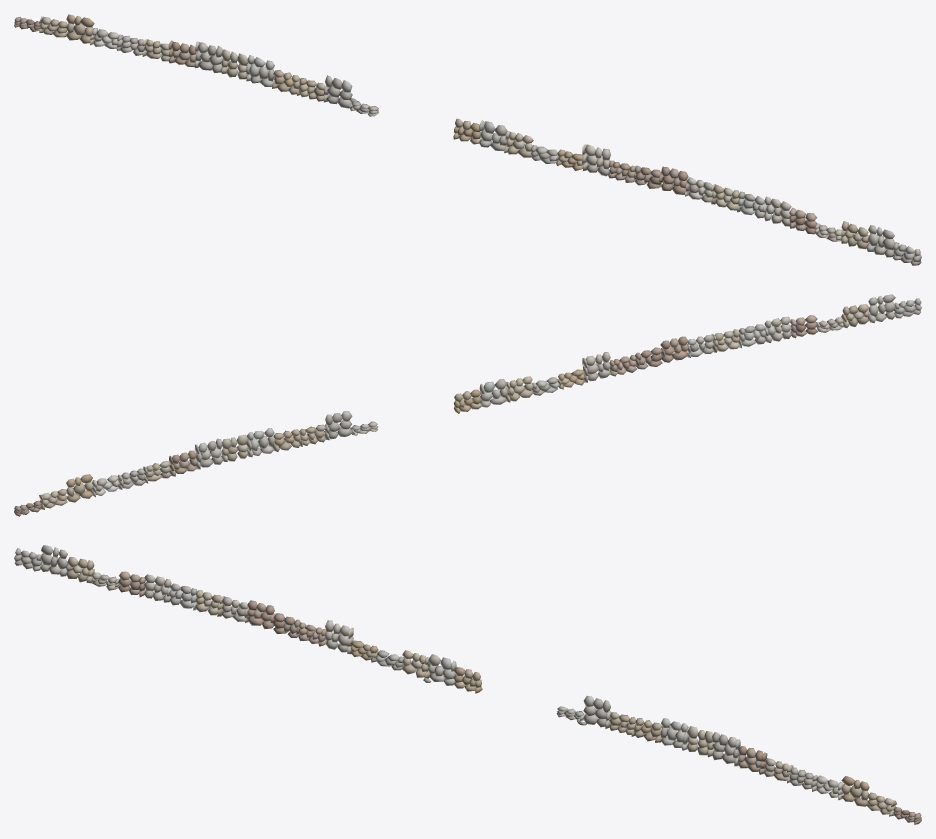
Rendered from farm_9_-3_near.glb.
3 renders of one model, top to bottom at view 1: azimuth 90°, elevation 25°; view 2: azimuth 150°, elevation 25°; view 3: azimuth 270°, elevation 25°, orthographic. The views are drawn at different scales.
Visible parts, largest first — view 1: geometry_0; view 2: geometry_0; view 3: geometry_0.
Part boxes in pixels (<box>): geometry_0: <box>14,14,921,265</box>; geometry_0: <box>14,294,921,516</box>; geometry_0: <box>14,545,921,824</box>.
Bounding box in the file's own units: 30.47 × 2.24 × 46.12.
